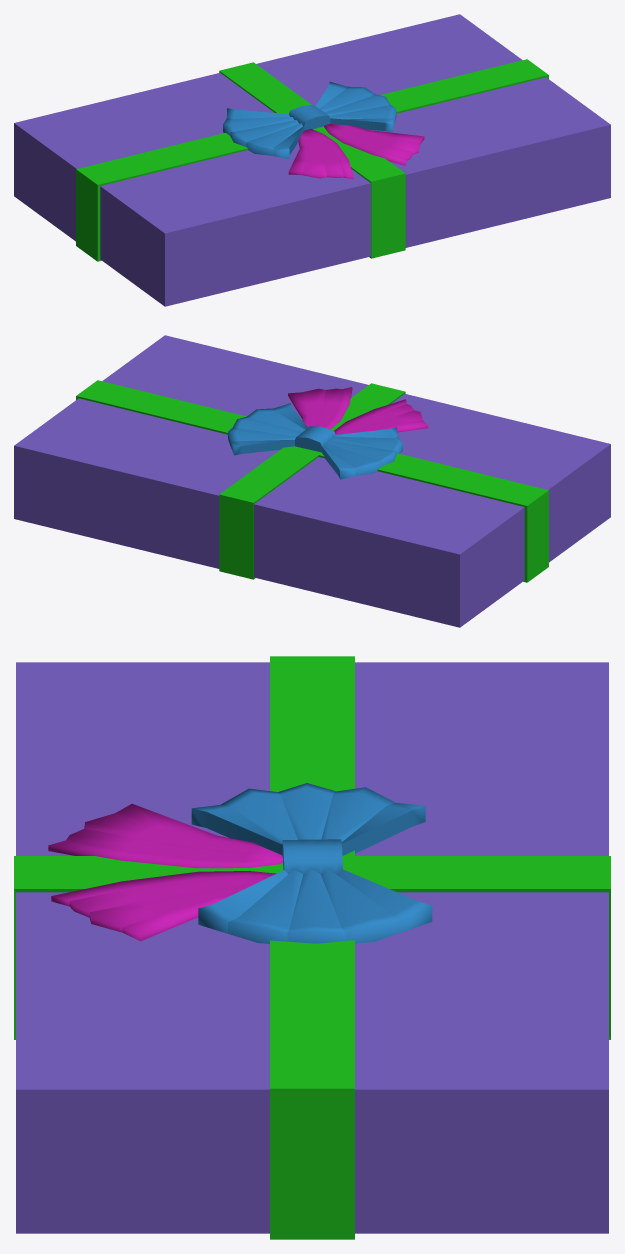
Rendered from Present1.fbx.
3 renders of one model, top to bottom at view 1: azimuth 30°, elevation 25°; view 2: azimuth 150°, elevation 25°; view 3: azimuth 270°, elevation 25°, orthographic. The views are drawn at different scales.
Parts seen in each view (by area): view 1: Present1_lp; view 2: Present1_lp; view 3: Present1_lp.
Part boxes in pixels (bbox=[...]): Present1_lp: bbox=[14, 14, 610, 306]; Present1_lp: bbox=[14, 335, 610, 627]; Present1_lp: bbox=[14, 656, 610, 1239].
Bounding box in the file's own units: 0.483 × 0.0903 × 0.2818.
